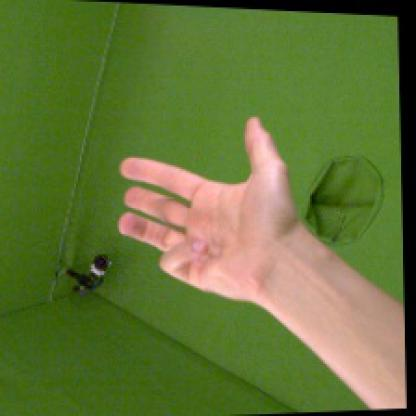Hand: (120, 116, 296, 303)
